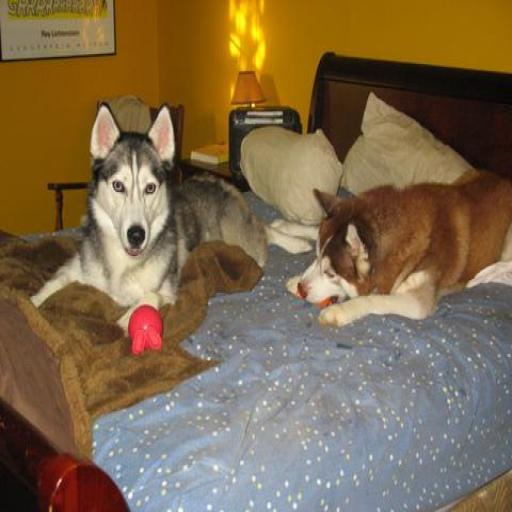dog_face: (90, 102, 180, 254), (288, 190, 369, 313)
